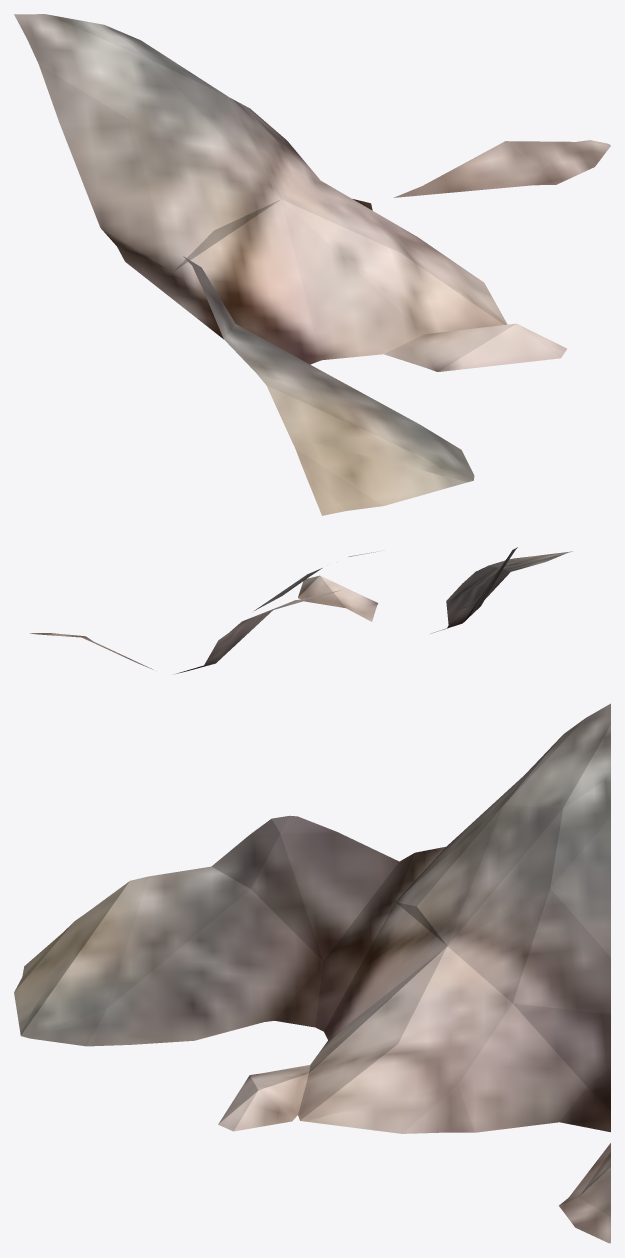
3 views of the same model, one above another, from view 1: azimuth 30°, elevation 25°; view 2: azimuth 150°, elevation 25°; view 3: azimuth 270°, elevation 25° (orthographic). The views are drawn at different scales.
Bounding box in the file's own units: 0.3492 × 0.1544 × 0.3179.
1 material, 1 textured.
